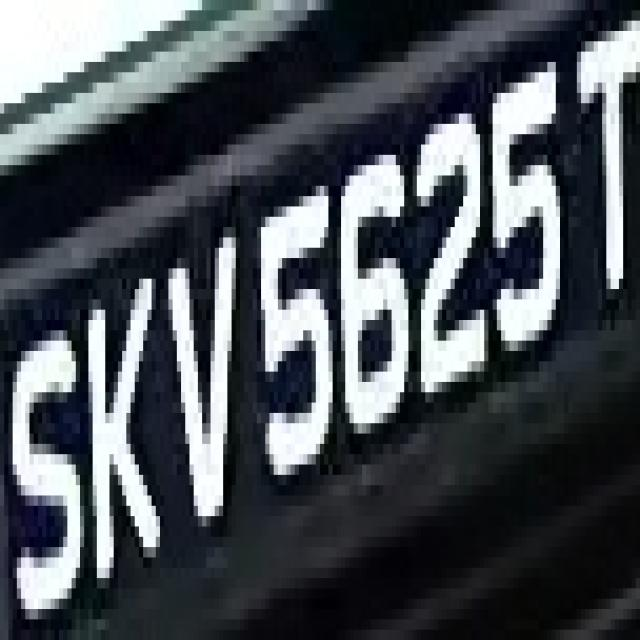2: (400, 62, 488, 423)
5: (244, 175, 341, 506), (480, 51, 573, 372)
6: (328, 134, 417, 465)
K: (80, 268, 168, 599)
S: (9, 310, 84, 619)
T: (564, 0, 640, 320)
V: (160, 207, 253, 547)
